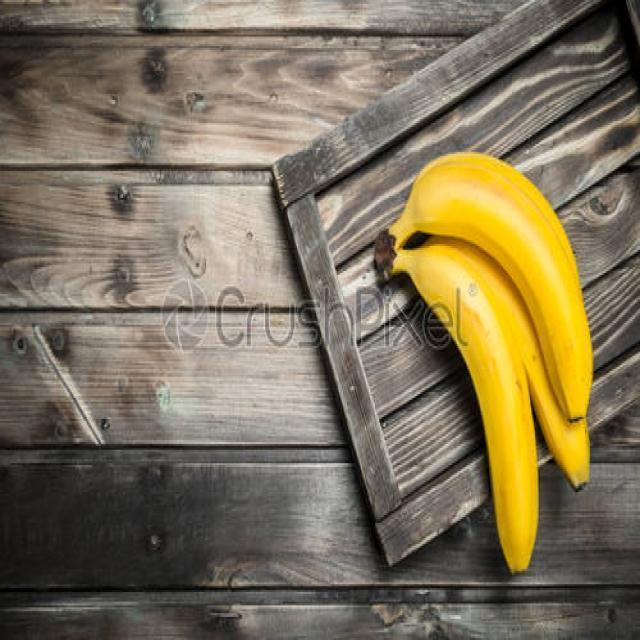Banana: (373, 148, 596, 590)
